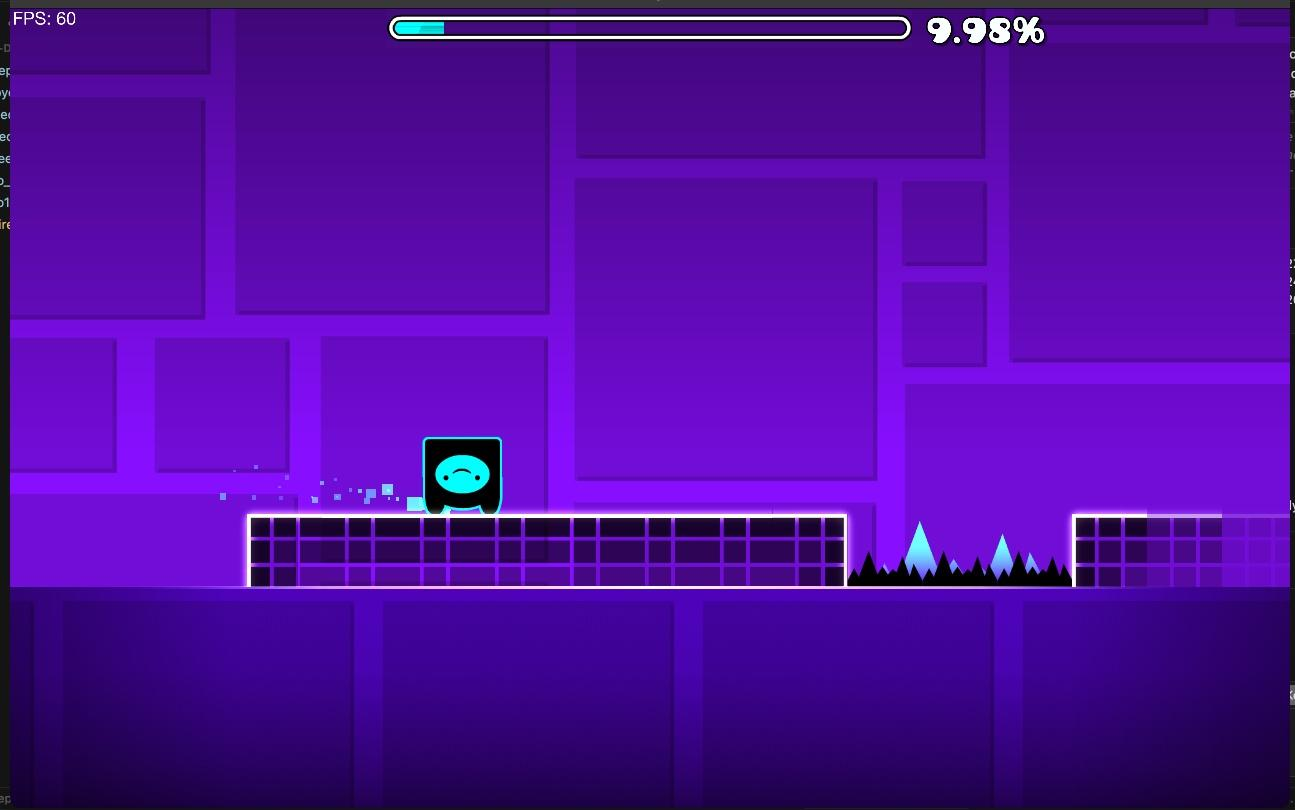block: (253, 519, 848, 583), (1079, 514, 1290, 587)
player: (423, 437, 501, 513)
spike: (846, 525, 1071, 586), (850, 522, 997, 585), (1040, 566, 1068, 583)
